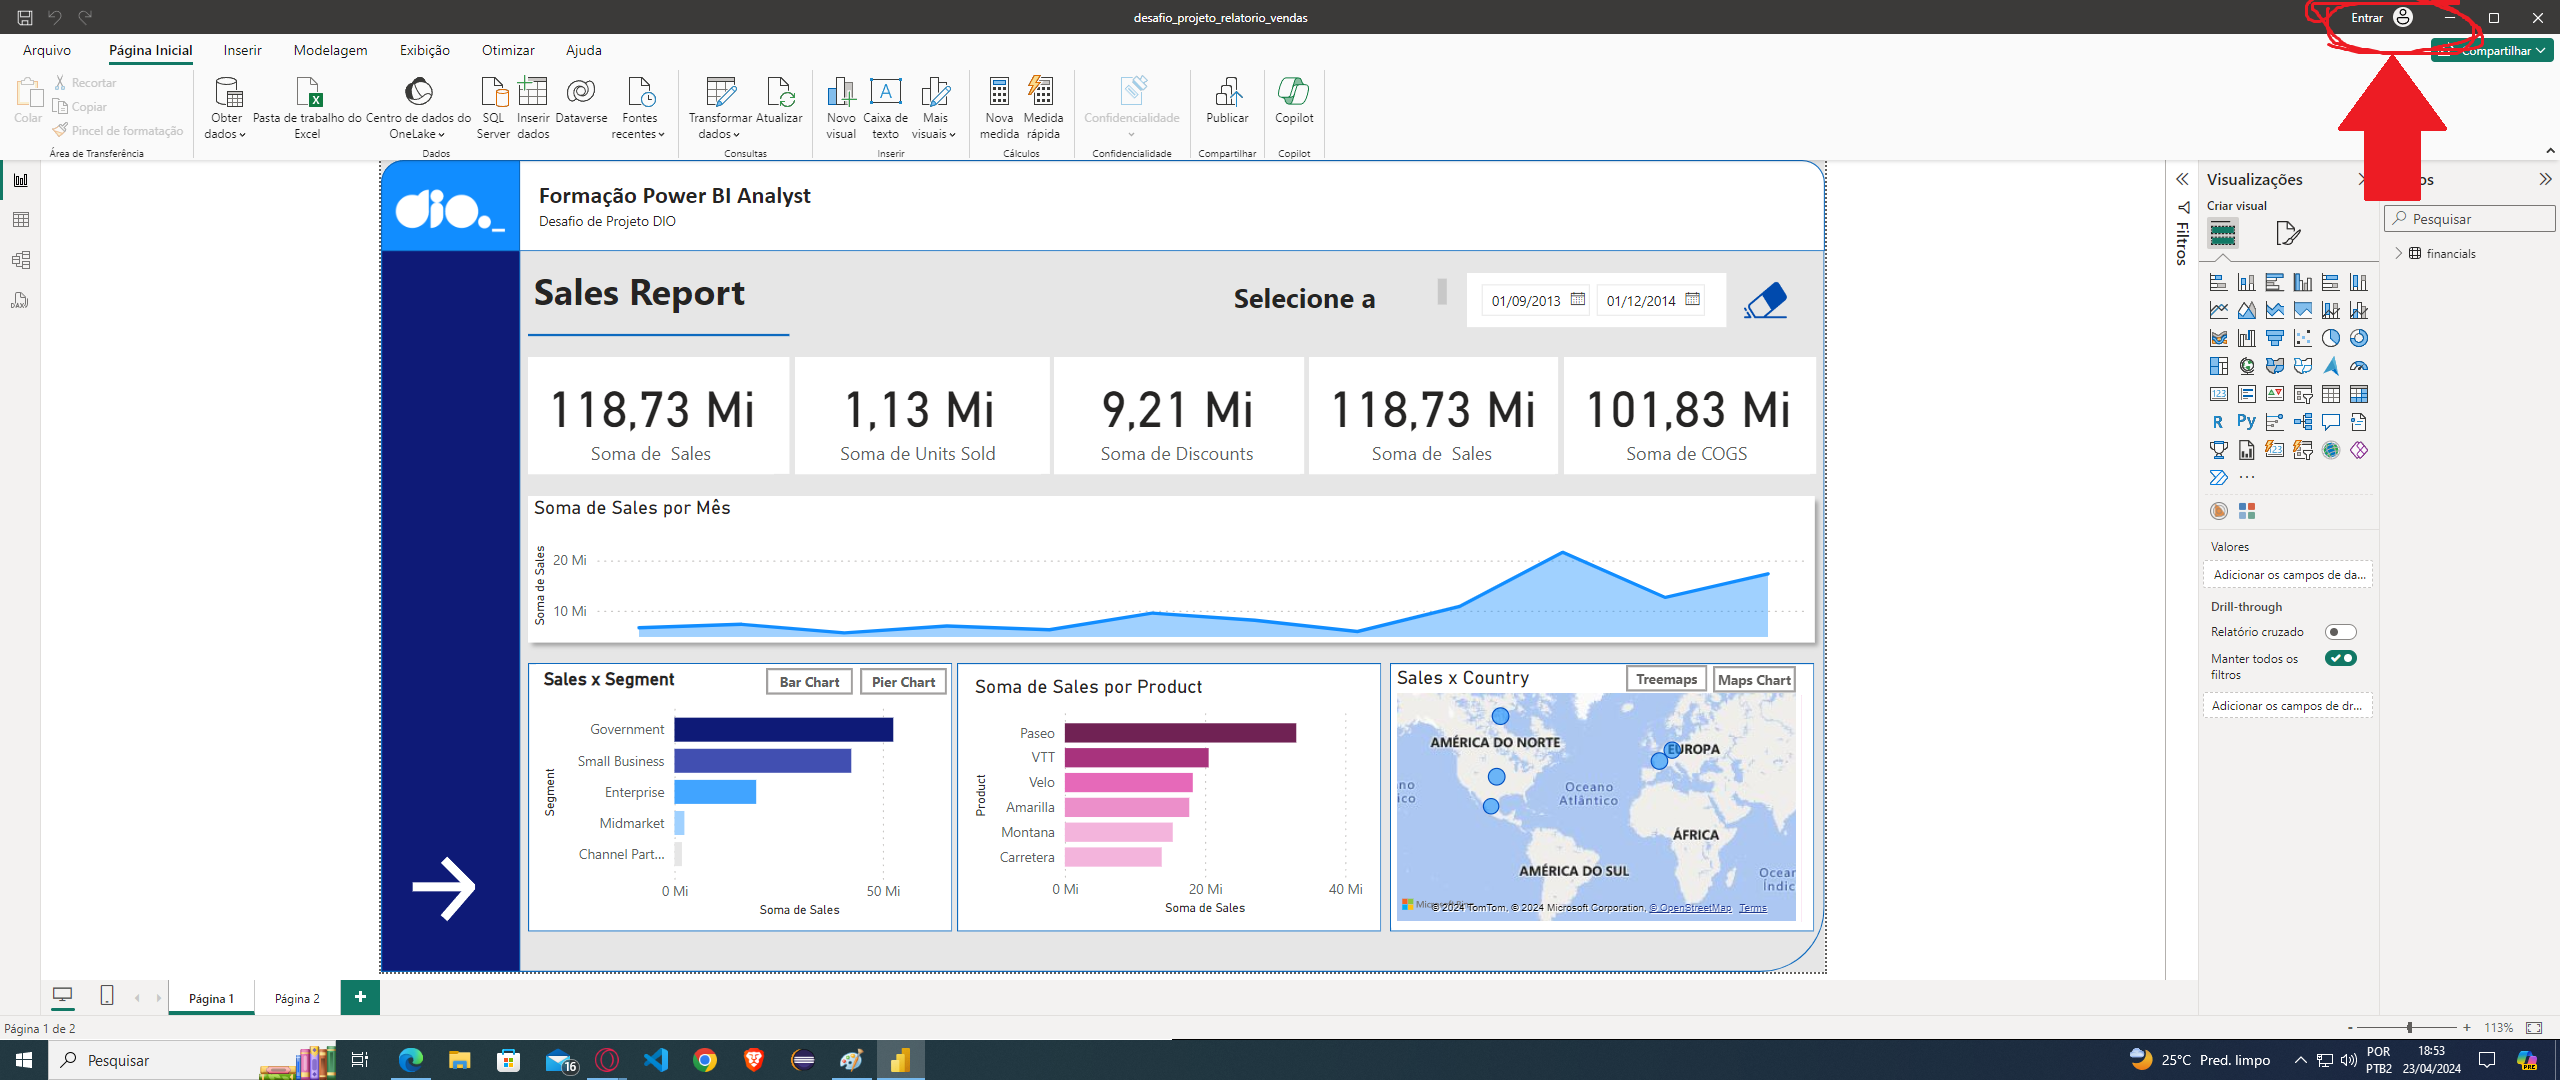

The page's visual inventory and layout, read from the dashboard file:
{"tool":"powerbi","page":{"name":"Página 1","canvas":[1280,720],"ordinal":0},"visuals":[{"type":"shape","box":[0,0,1280,720],"z":0},{"type":"actionButton","box":[1196.5,101.1,68.2,48.2],"z":0,"group":"g2"},{"type":"shape","box":[130,174.5,231.8,103.6],"z":0,"group":"g1"},{"type":"donutChart","title":"Sales x Segment","fields":{"Y":["Sum(financials. Sales)"],"Category":["financials.Segment"]},"box":[137.4,446.9,368.2,231.8],"z":0,"group":"g3"},{"type":"shape","box":[0,0,123.5,720],"z":1000},{"type":"image","box":[1200.4,100.4,53.2,47.9],"z":1000,"group":"g2"},{"type":"shape","box":[366.4,174.5,226.4,103.6],"z":1000,"group":"g1"},{"type":"clusteredBarChart","title":" Sales x Segment","fields":{"Y":["Sum(financials. Sales)"],"Category":["financials.Segment"]},"box":[139.2,450.5,362.7,225.5],"z":1000,"group":"g3"},{"type":"shape","box":[0,0,124,81],"z":2000},{"type":"slicer","fields":{"Values":["financials.Date"]},"box":[962.8,100.2,230,48.2],"z":2000,"group":"g2"},{"type":"shape","box":[596.4,174.5,221.8,103.6],"z":2000,"group":"g1"},{"type":"actionButton","title":"Botão_pierChart","box":[424.7,450.5,77.3,23.6],"z":2000,"group":"g3"},{"type":"image","title":"dio_logo","box":[8,0,107,89],"z":3000},{"type":"textbox","box":[751,100.2,199.1,48.2],"z":3000,"group":"g2"},{"type":"shape","box":[822.7,174.5,220.9,103.6],"z":3000,"group":"g1"},{"type":"actionButton","title":"Botão_barchart","box":[341,450.5,77.3,23.6],"z":3000,"group":"g3"},{"type":"shape","box":[122,0,1158,81],"z":4000},{"type":"card","fields":{"Values":["Sum(financials. Sales)"]},"box":[822.7,174.6,218.2,103.6],"z":4000,"group":"g1"},{"type":"textbox","box":[135,13,881,55],"z":5000},{"type":"card","fields":{"Values":["Sum(financials.Discounts)"]},"box":[596.4,174.6,218.2,103.6],"z":5000,"group":"g1"},{"type":"group","id":"g1","title":"cartões","box":[130,174.5,1141.8,103.7],"z":6000},{"type":"card","fields":{"Values":["Sum(financials.Units Sold)"]},"box":[366.4,174.6,218.2,103.6],"z":6000,"group":"g1"},{"type":"shape","box":[130,100,231.8,110],"z":7000},{"type":"card","fields":{"Values":["Sum(financials. Sales)"]},"box":[130,174.6,218.2,103.6],"z":7000,"group":"g1"},{"type":"textbox","box":[130,89.1,218.2,59.1],"z":8000},{"type":"shape","box":[1048.2,174.5,223.6,103.6],"z":8000,"group":"g1"},{"type":"card","fields":{"Values":["Sum(financials.COGS)"]},"box":[1048.2,174.6,218.2,103.6],"z":9000,"group":"g1"},{"type":"shape","box":[121.8,290,1158.2,146.4],"z":9000},{"type":"shape","box":[130,446.4,376.4,238.2],"z":12000},{"type":"shape","box":[510.9,446.4,376.4,238.2],"z":13000},{"type":"shape","box":[894.5,446.4,376.4,238.2],"z":14000},{"type":"areaChart","fields":{"Category":["financials.Date.Variation.Hierarquia de datas.Mês"],"Y":["Sum(financials. Sales)"]},"box":[130,298.2,1140.9,130],"z":15000},{"type":"clusteredBarChart","fields":{"Y":["Sum(financials. Sales)"],"Category":["financials.Product"]},"box":[521.8,456.4,353.6,217.3],"z":16000},{"type":"group","id":"g2","title":"filtro por data","box":[751,100.2,513.4,48.8],"z":17000},{"type":"group","id":"g3","title":"Sales x segment","box":[137.4,446.9,368,232.3],"z":18000},{"type":"treemap","title":" Sales por Country","fields":{"Values":["Sum(financials. Sales)"],"Group":["financials.Country"]},"box":[895.5,448.8,369.1,231.8],"z":22125,"group":"g4"},{"type":"map","title":" Sales x Country","fields":{"Size":["Sum(financials. Sales)"],"Category":["financials.Country"]},"box":[895.9,448.7,363.5,231.4],"z":22187,"group":"g4"},{"type":"actionButton","title":"Botão_tremaps","box":[1103.6,447.9,72.4,23.5],"z":22250,"group":"g4"},{"type":"actionButton","title":"Botão_maps","box":[1181.2,449.1,73.5,23.5],"z":22500,"group":"g4"},{"type":"group","id":"g4","title":"maps","box":[895.5,447.9,369.1,232.7],"z":22501},{"type":"actionButton","title":"Botão_proximo","box":[20.8,612.6,92.7,67.3],"z":23001}]}

Visuals, with their boxes on the page's 1280x720 design canvas (x1, y1, x2, y2). These are canvas units, not pixel positions in the 2560x1080 screenshot, which may show the page scaled, cropped or inside an application window:
shape: BBox(0, 0, 1280, 720)
actionButton: BBox(1196, 101, 1265, 149)
shape: BBox(130, 174, 362, 278)
"Sales x Segment" donutChart: BBox(137, 447, 506, 679)
shape: BBox(0, 0, 124, 720)
image: BBox(1200, 100, 1254, 148)
shape: BBox(366, 174, 593, 278)
" Sales x Segment" clusteredBarChart: BBox(139, 450, 502, 676)
shape: BBox(0, 0, 124, 81)
slicer - financials.Date: BBox(963, 100, 1193, 148)
shape: BBox(596, 174, 818, 278)
"Botão_pierChart" actionButton: BBox(425, 450, 502, 474)
"dio_logo" image: BBox(8, 0, 115, 89)
textbox: BBox(751, 100, 950, 148)
shape: BBox(823, 174, 1044, 278)
"Botão_barchart" actionButton: BBox(341, 450, 418, 474)
shape: BBox(122, 0, 1280, 81)
card - Sum(financials. Sales): BBox(823, 175, 1041, 278)
textbox: BBox(135, 13, 1016, 68)
card - Sum(financials.Discounts): BBox(596, 175, 815, 278)
"cartões" group: BBox(130, 174, 1272, 278)
card - Sum(financials.Units Sold): BBox(366, 175, 585, 278)
shape: BBox(130, 100, 362, 210)
card - Sum(financials. Sales): BBox(130, 175, 348, 278)
textbox: BBox(130, 89, 348, 148)
shape: BBox(1048, 174, 1272, 278)
card - Sum(financials.COGS): BBox(1048, 175, 1266, 278)
shape: BBox(122, 290, 1280, 436)
shape: BBox(130, 446, 506, 685)
shape: BBox(511, 446, 887, 685)
shape: BBox(894, 446, 1271, 685)
areaChart - financials.Date.Variation.Hierarquia de datas.Mês x Sum(financials. Sales): BBox(130, 298, 1271, 428)
clusteredBarChart - Sum(financials. Sales) x financials.Product: BBox(522, 456, 875, 674)
"filtro por data" group: BBox(751, 100, 1264, 149)
"Sales x segment" group: BBox(137, 447, 505, 679)
" Sales por Country" treemap: BBox(896, 449, 1265, 681)
" Sales x Country" map: BBox(896, 449, 1259, 680)
"Botão_tremaps" actionButton: BBox(1104, 448, 1176, 471)
"Botão_maps" actionButton: BBox(1181, 449, 1255, 473)
"maps" group: BBox(896, 448, 1265, 681)
"Botão_proximo" actionButton: BBox(21, 613, 114, 680)
